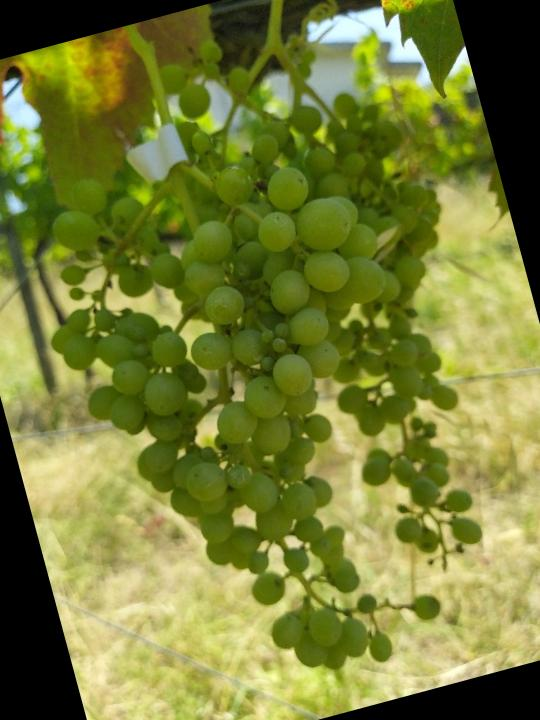grape: (6, 84, 483, 720)
